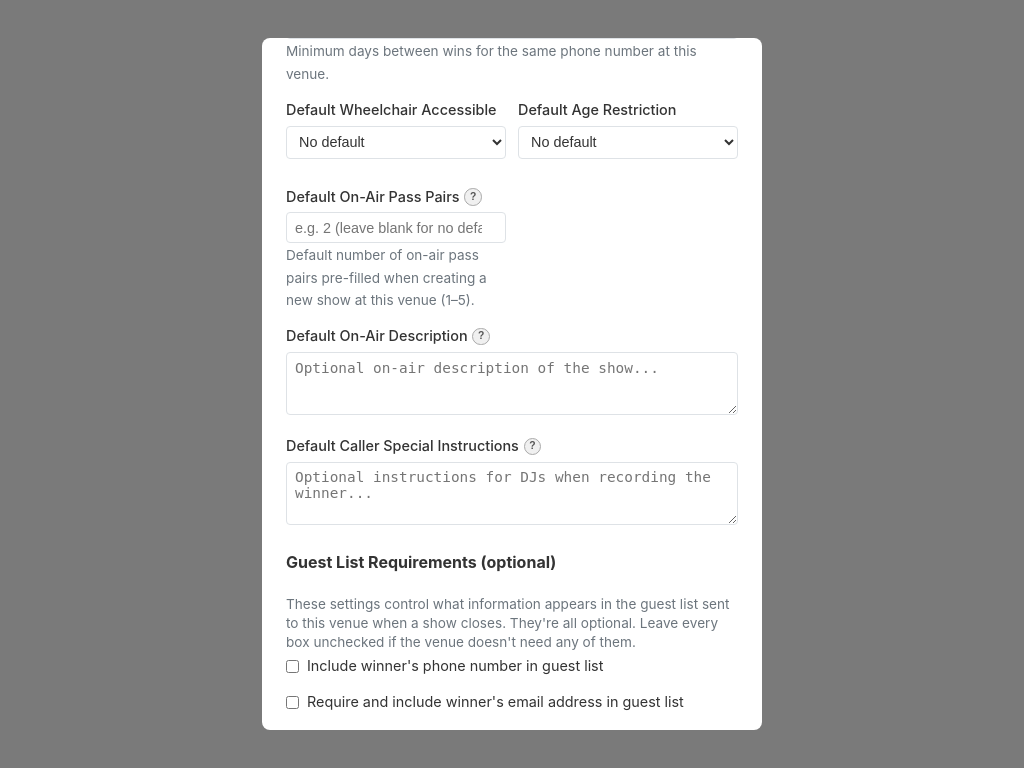
VenueForm › Default Show Text › should check the default on-air description for non-value-neutral language
(page scrolled)
Type "The legendary house band." into the text box labelled "Default On-Air Description". click: (512,384)
box: left=286, top=352, right=738, bottom=415
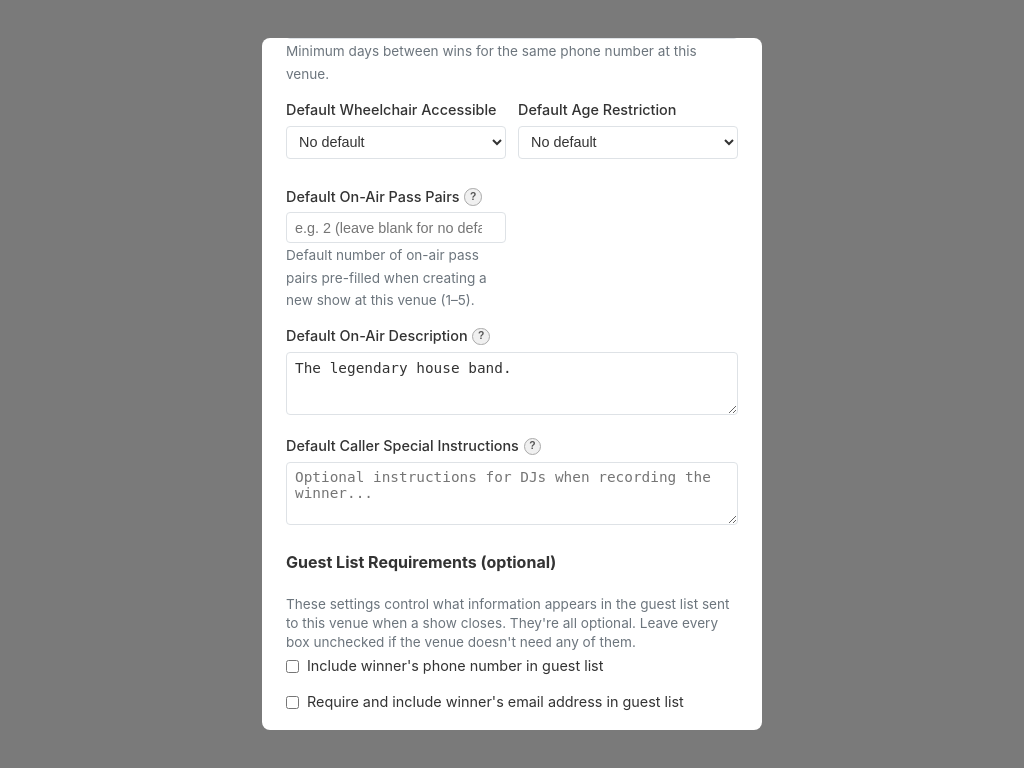
Leave the text box labelled "Default On-Air Description", box left=286, top=352, right=738, bottom=415
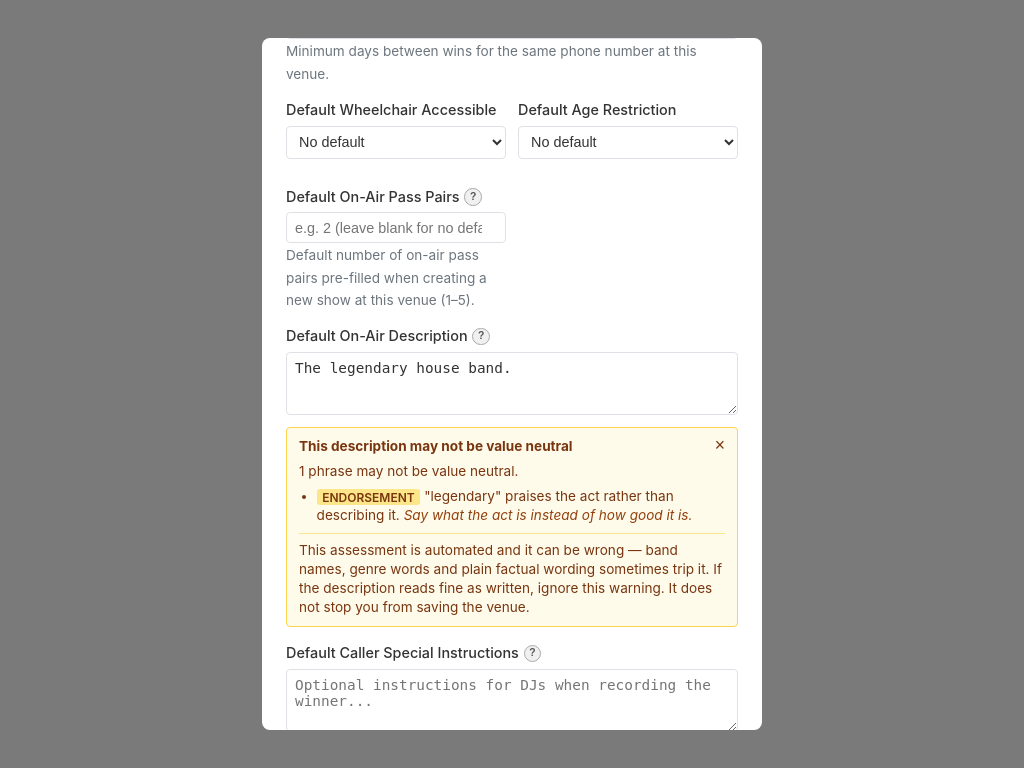
Result: the text "This description may not be value neutral" is shown at left=299, top=437, right=572, bottom=456
Result: the text "stop you from saving the venue" is shown at left=299, top=533, right=725, bottom=617
